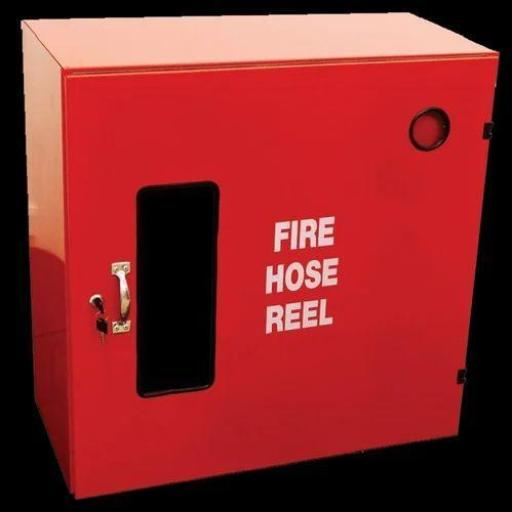fire_hose: (16, 13, 498, 500)
